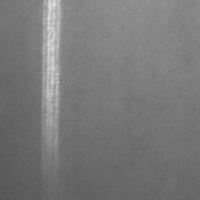scratches: (39, 1, 65, 163)
